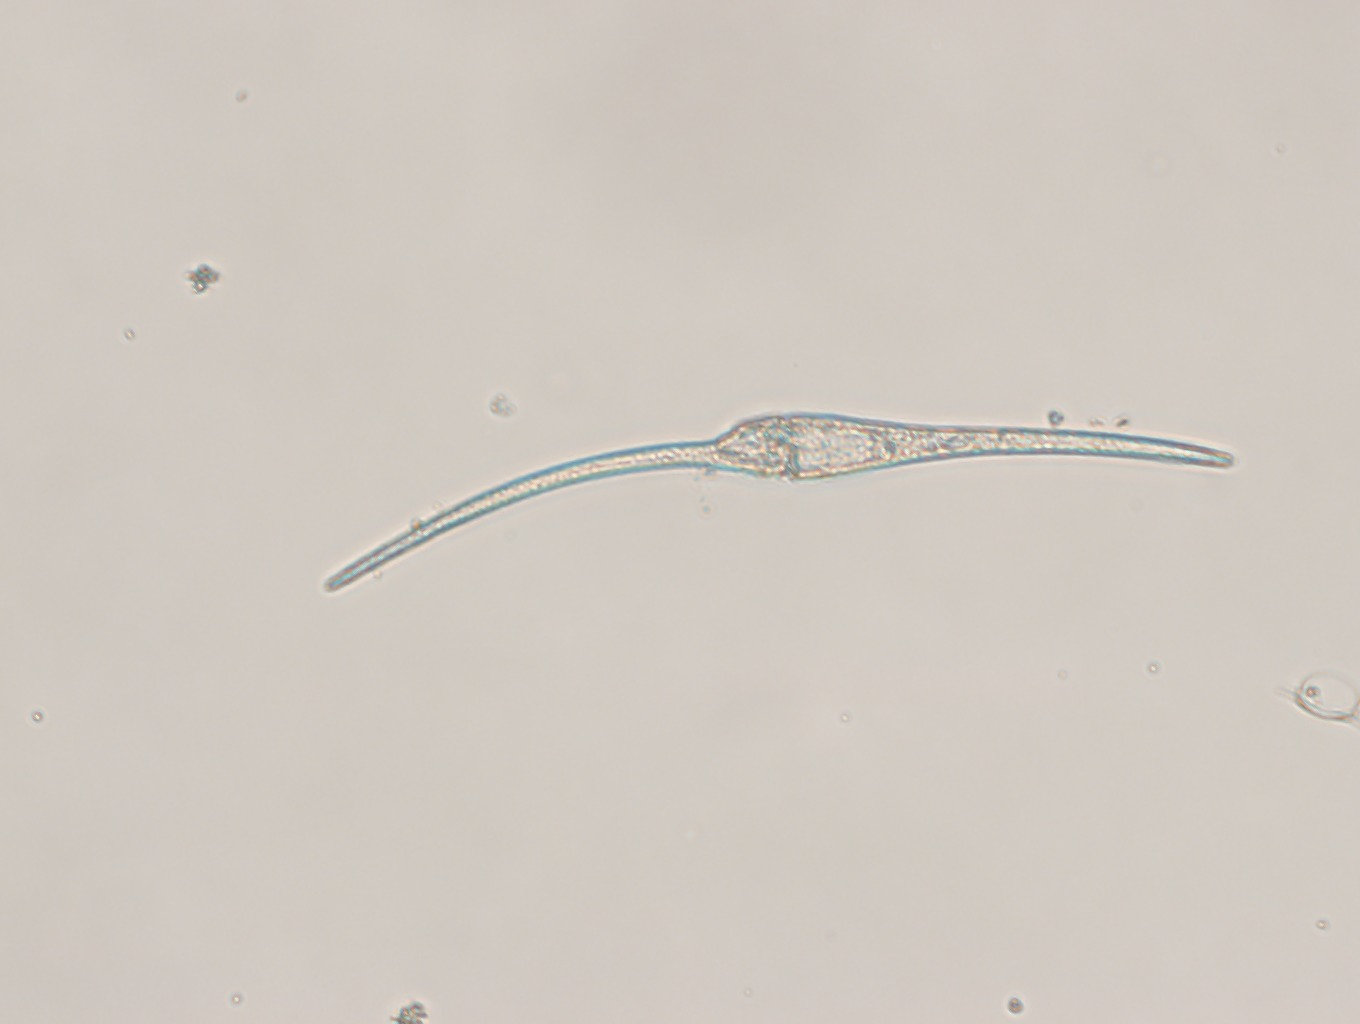ceratium fusus: (317, 395, 1244, 601)
